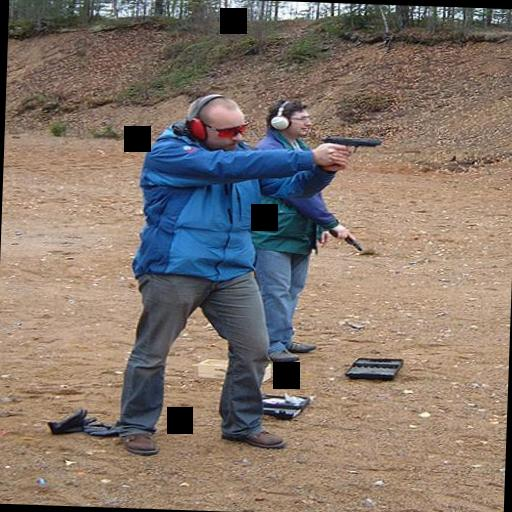Handgun: (318, 132, 382, 152), (326, 226, 361, 250)
